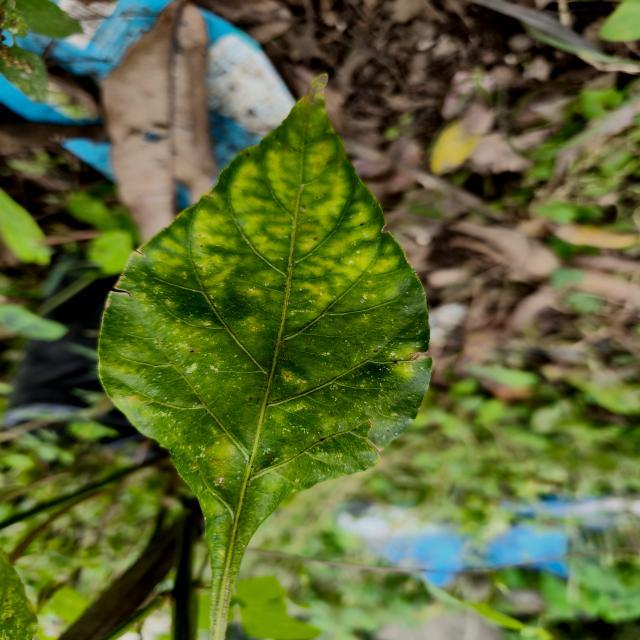Virus Kuning: (95, 73, 434, 556)
